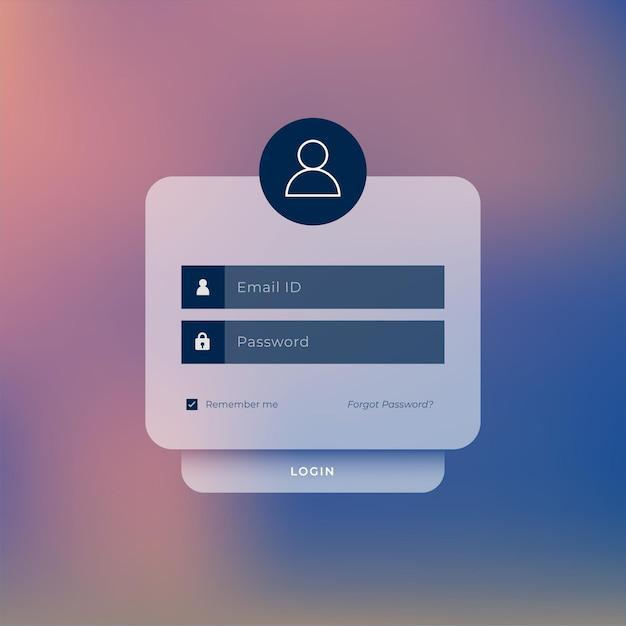button: (179, 449, 449, 494)
checkbox: (186, 399, 200, 411)
icon: (180, 263, 226, 308), (182, 322, 224, 365)
input: (226, 266, 445, 311), (225, 322, 446, 365)
label: (204, 396, 284, 415)
